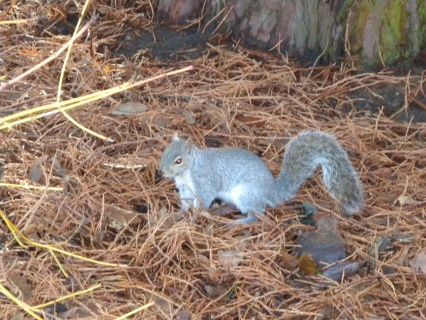Squirrel: (159, 130, 367, 226)
